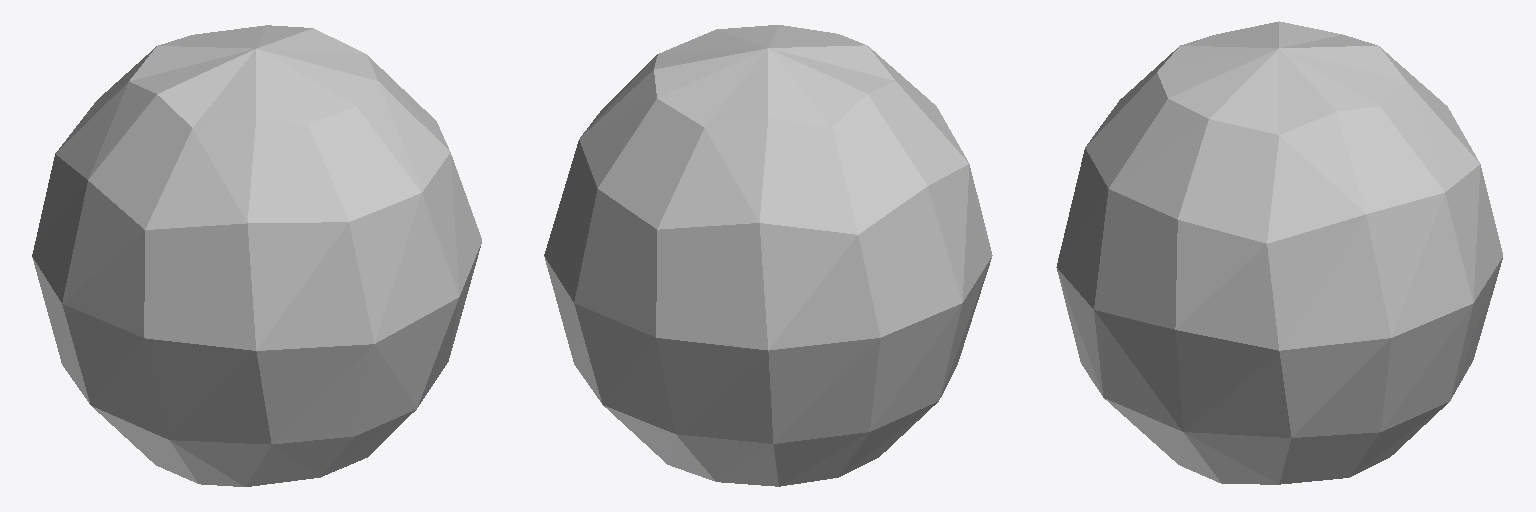
Rendered from ball_volume.obj.
The picture shows the model from 3 angles: view 1: azimuth 30°, elevation 25°; view 2: azimuth 150°, elevation 25°; view 3: azimuth 270°, elevation 25°; orthographic projection.
Visible parts, largest first — view 1: Sphere; view 2: Sphere; view 3: Sphere.
Part boxes in pixels (left/top/right/bottom): Sphere: left=32, top=25, right=481, bottom=486; Sphere: left=544, top=25, right=992, bottom=486; Sphere: left=1056, top=21, right=1502, bottom=484.
Size of the model in its own units: 1.83 by 1.87 by 1.82.